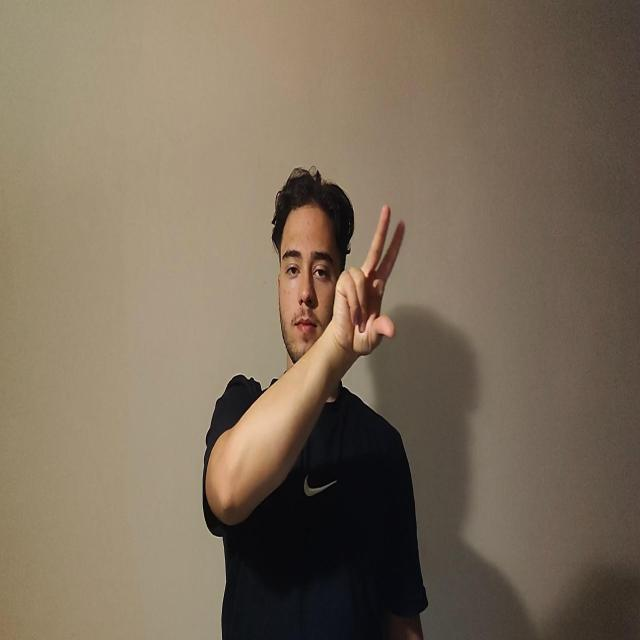no: (331, 202, 406, 361)
